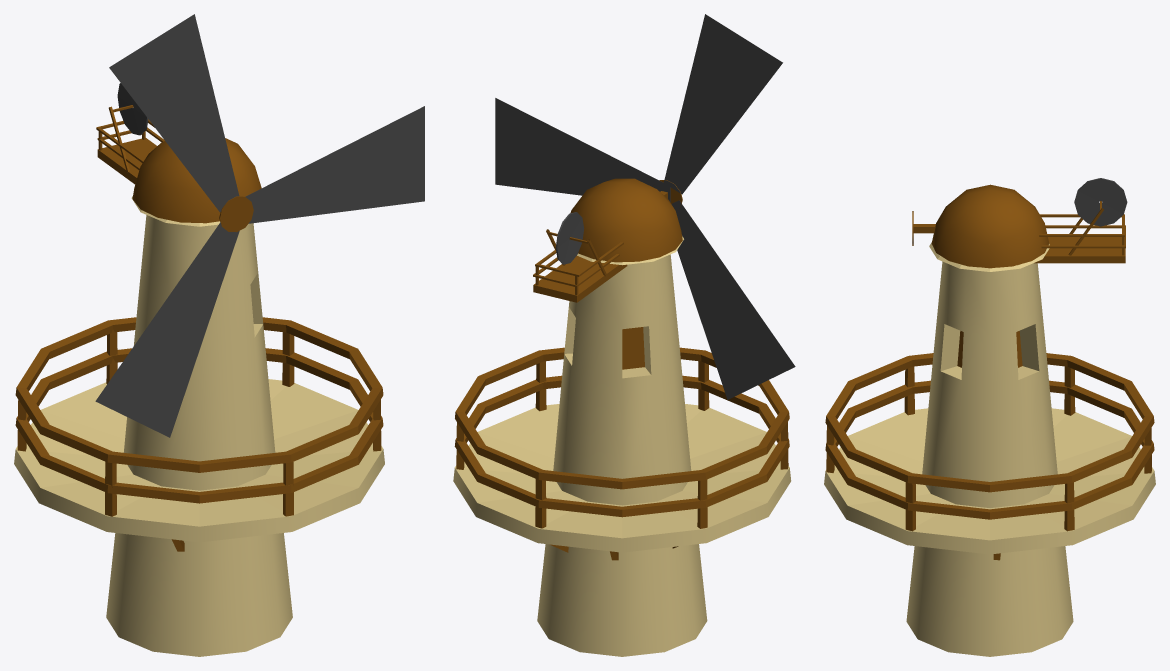
The model's file is moinho.FBX.
3 renders of one model, left to right at view 1: azimuth 30°, elevation 25°; view 2: azimuth 150°, elevation 25°; view 3: azimuth 270°, elevation 25°, orthographic. The views are drawn at different scales.
Visible parts, largest first — view 1: Fazenda_Moinho; view 2: Fazenda_Moinho; view 3: Fazenda_Moinho.
Part boxes in pixels (x1,y1,x2,y2): Fazenda_Moinho: (14,14,424,656); Fazenda_Moinho: (453,14,795,656); Fazenda_Moinho: (824,178,1155,656).
Bounding box in the file's own units: 5.94 × 5.57 × 10.7.
